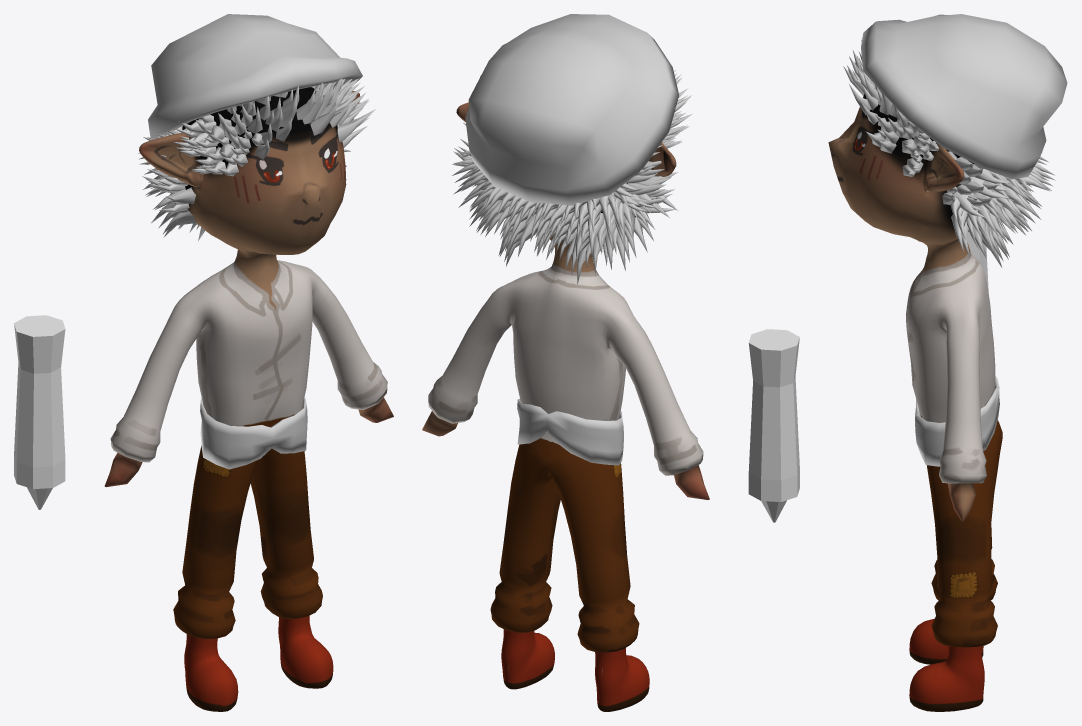
The model's file is Lil Pumpah.fbx.
The picture shows the model from 3 angles, left to right: view 1: azimuth 30°, elevation 25°; view 2: azimuth 150°, elevation 25°; view 3: azimuth 270°, elevation 25°; orthographic projection.
Parts seen in each view (by area): view 1: Cube.006, Cube.002, ArmNeutral, Cube.001; view 2: Cube.006, Cube.002, ArmNeutral, Cube.001; view 3: Cube.006, Cube.002, Cube.001, ArmNeutral.
Part boxes in pixels (x1=…): Cube.006: x1=104, y1=87, x2=393, y2=711; Cube.002: x1=148, y1=14, x2=362, y2=138; ArmNeutral: x1=14, y1=315, x2=65, y2=509; Cube.001: x1=200, y1=397, x2=307, y2=469; Cube.006: x1=422, y1=102, x2=709, y2=711; Cube.002: x1=465, y1=14, x2=679, y2=205; ArmNeutral: x1=748, y1=329, x2=799, y2=522; Cube.001: x1=517, y1=399, x2=623, y2=465; Cube.006: x1=828, y1=93, x2=1002, y2=711; Cube.002: x1=861, y1=14, x2=1067, y2=179; Cube.001: x1=915, y1=376, x2=999, y2=466; ArmNeutral: x1=967, y1=232, x2=988, y2=291.
Bounding box in the file's own units: 163 × 272 × 89.53.
